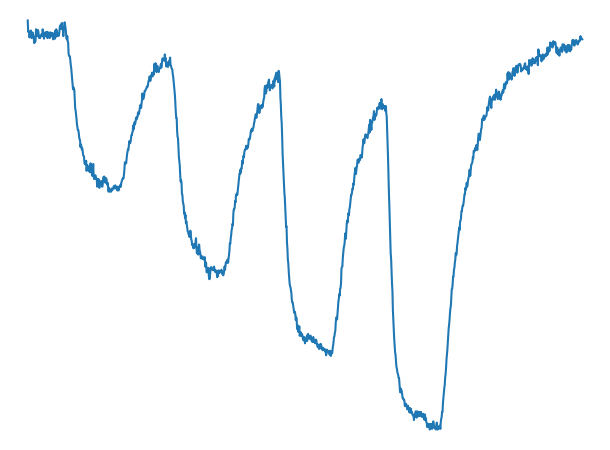decrease: (55, 15, 72, 49), (163, 45, 178, 83), (379, 92, 392, 127), (272, 63, 285, 97)
increase: (217, 252, 233, 281), (433, 409, 447, 435), (325, 337, 338, 361), (115, 174, 127, 196)
